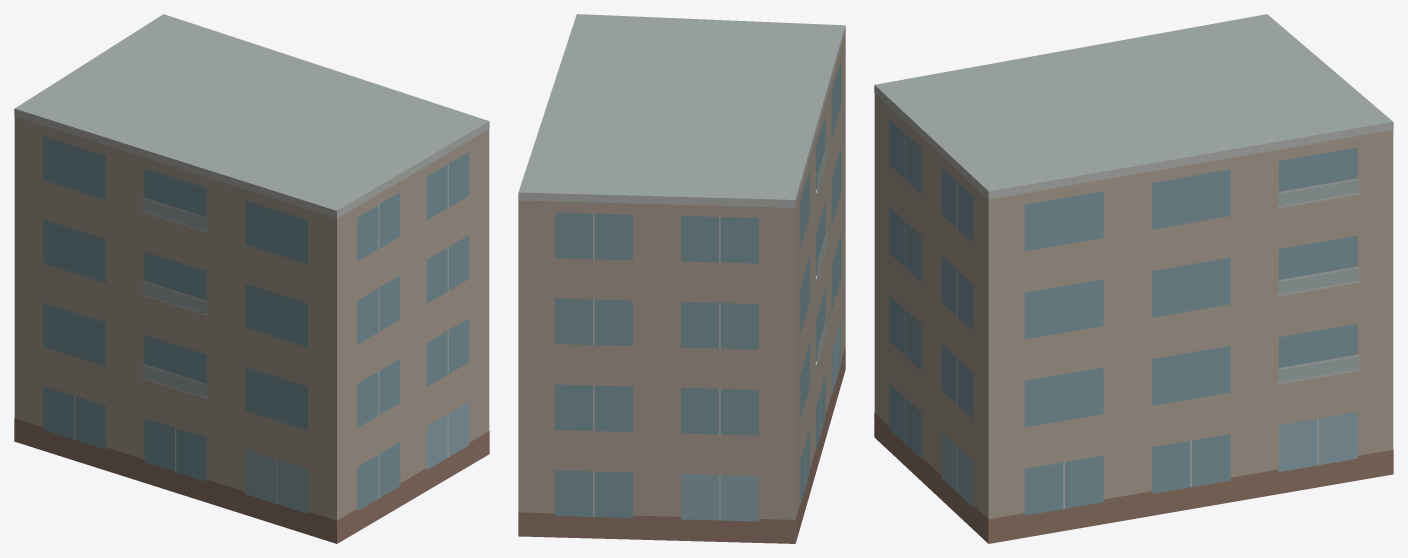
The model's file is survey-upis-32876669.glb.
The picture shows the model from 3 angles, left to right: view 1: azimuth 30°, elevation 25°; view 2: azimuth 150°, elevation 25°; view 3: azimuth 270°, elevation 25°; orthographic projection. The views are drawn at different scales.
Visible parts, largest first — view 1: survey-upis-32876669.tmp; view 2: survey-upis-32876669.tmp; view 3: survey-upis-32876669.tmp.
Part boxes in pixels (x1,y1,x2,y2): survey-upis-32876669.tmp: (14, 14, 489, 543); survey-upis-32876669.tmp: (518, 14, 845, 543); survey-upis-32876669.tmp: (874, 14, 1393, 543).
Bounding box in the file's own units: 11.45 × 10.6 × 14.15.
